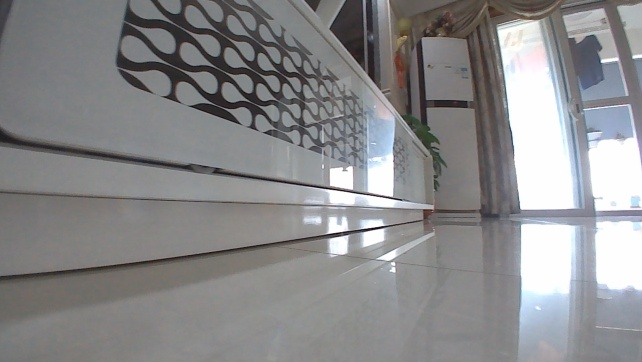TV_stand: (0, 0, 437, 277)
